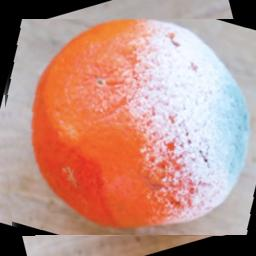Orange Rotten: (0, 20, 256, 237)
